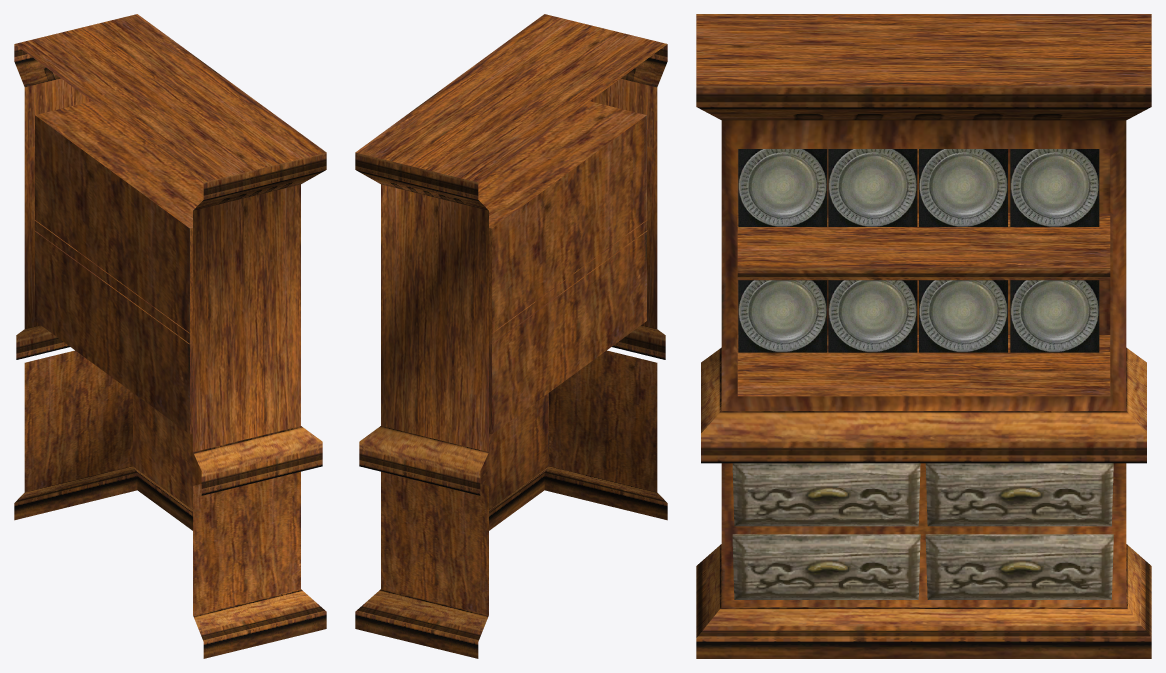
Rendered from INST_LT_CHINACABINET.fbx.
3 views of the same model, side by side, from view 1: azimuth 30°, elevation 25°; view 2: azimuth 150°, elevation 25°; view 3: azimuth 270°, elevation 25° (orthographic). The views are drawn at different scales.
Parts seen in each view (by area): view 1: INST_LT_CHINACABINET; view 2: INST_LT_CHINACABINET; view 3: INST_LT_CHINACABINET.
Boxes of the visible parts, x1=… form: INST_LT_CHINACABINET: x1=14, y1=14, x2=326, y2=658; INST_LT_CHINACABINET: x1=355, y1=14, x2=667, y2=658; INST_LT_CHINACABINET: x1=696, y1=14, x2=1151, y2=658.
Bounding box in the file's own units: 4798 × 17725 × 12770.
4 materials, 4 textured.
